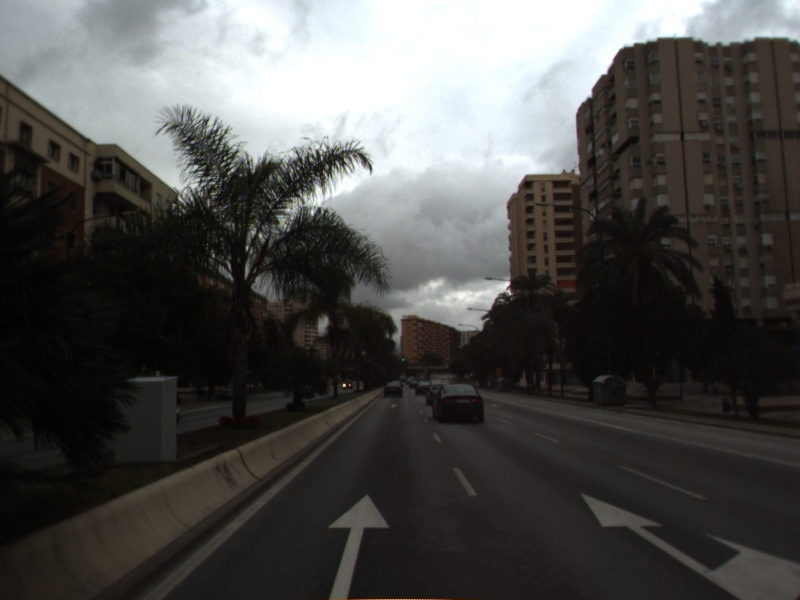STRAIGHT: (324, 491, 392, 600)
STRAIGHT_RIGHT: (578, 488, 800, 600)
